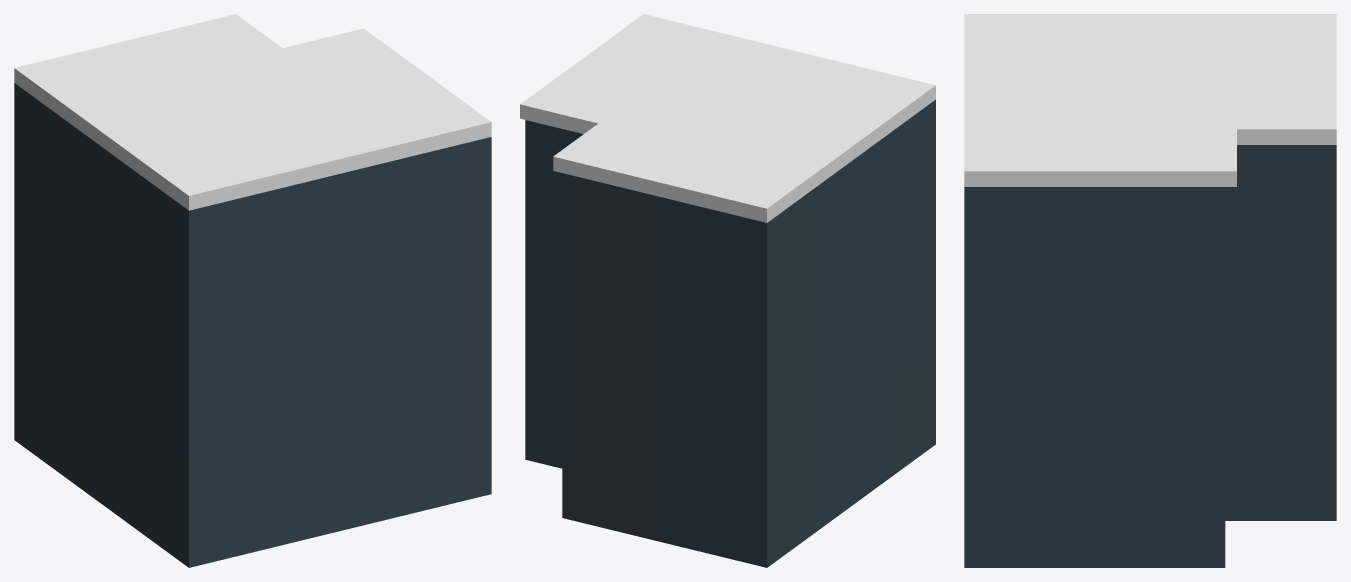
File: CabinetACorner01.glb
3 renders of one model, left to right at view 1: azimuth 30°, elevation 25°; view 2: azimuth 150°, elevation 25°; view 3: azimuth 270°, elevation 25°, orthographic. The views are drawn at different scales.
Parts seen in each view (by area): view 1: CabinetACorner01_model; view 2: CabinetACorner01_model; view 3: CabinetACorner01_model.
Part boxes in pixels (box(x1,y1,x2,y2)): CabinetACorner01_model: box(14, 14, 491, 567); CabinetACorner01_model: box(520, 14, 935, 567); CabinetACorner01_model: box(964, 14, 1336, 567).
Size of the model in its own units: 1.72 by 2.02 by 1.72.
1 material, 1 textured.
